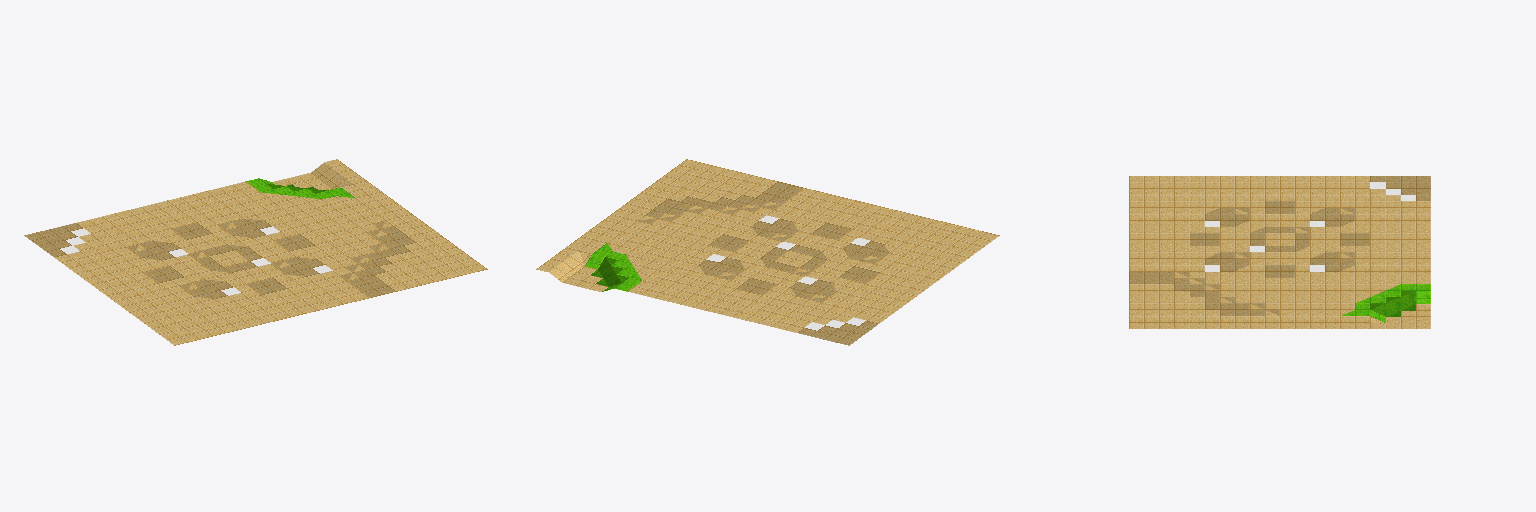
The picture shows the model from 3 angles: view 1: azimuth 30°, elevation 25°; view 2: azimuth 150°, elevation 25°; view 3: azimuth 270°, elevation 25°; orthographic projection.
Parts seen in each view (by area): view 1: FloorSide_3; view 2: FloorSide_3; view 3: FloorSide_3.
Boxes of the visible parts, <box> form: FloorSide_3: <box>24,159,487,345</box>; FloorSide_3: <box>536,159,999,345</box>; FloorSide_3: <box>1129,176,1430,328</box>.
Size of the model in its own units: 24 by 0.517 by 20.
Materials: 9 (8 with a texture image).